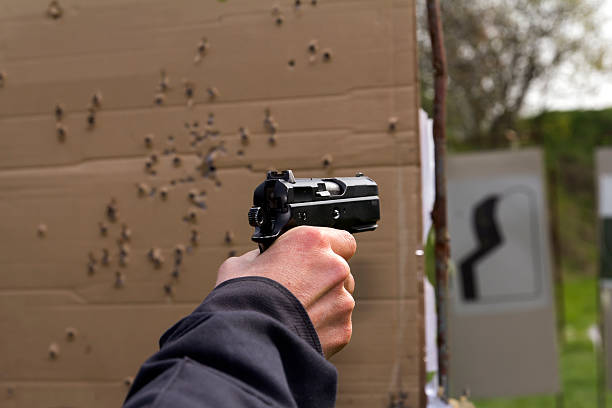gun: (247, 171, 380, 252)
